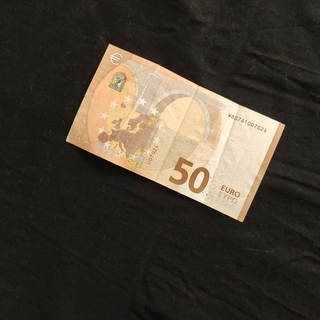50EUROBack: (64, 42, 286, 223)
